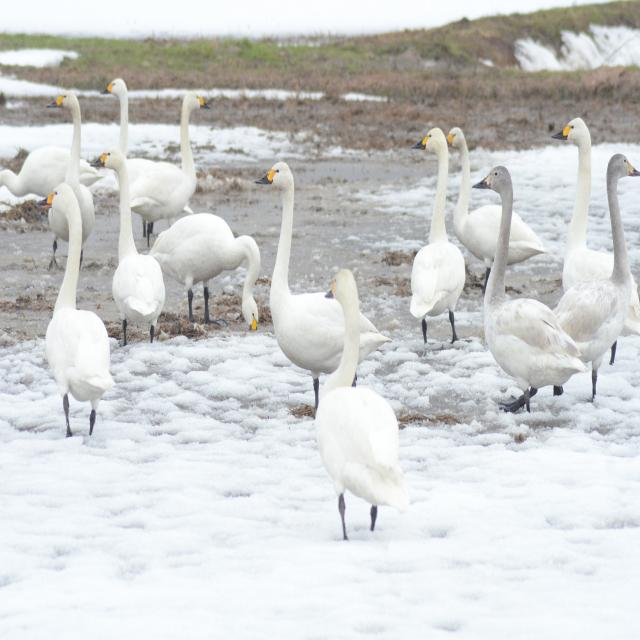bird: (445, 150, 615, 414), (239, 158, 366, 418), (534, 129, 640, 417), (302, 268, 410, 543), (38, 179, 124, 446), (404, 129, 494, 368), (84, 150, 179, 357), (140, 200, 264, 322)
